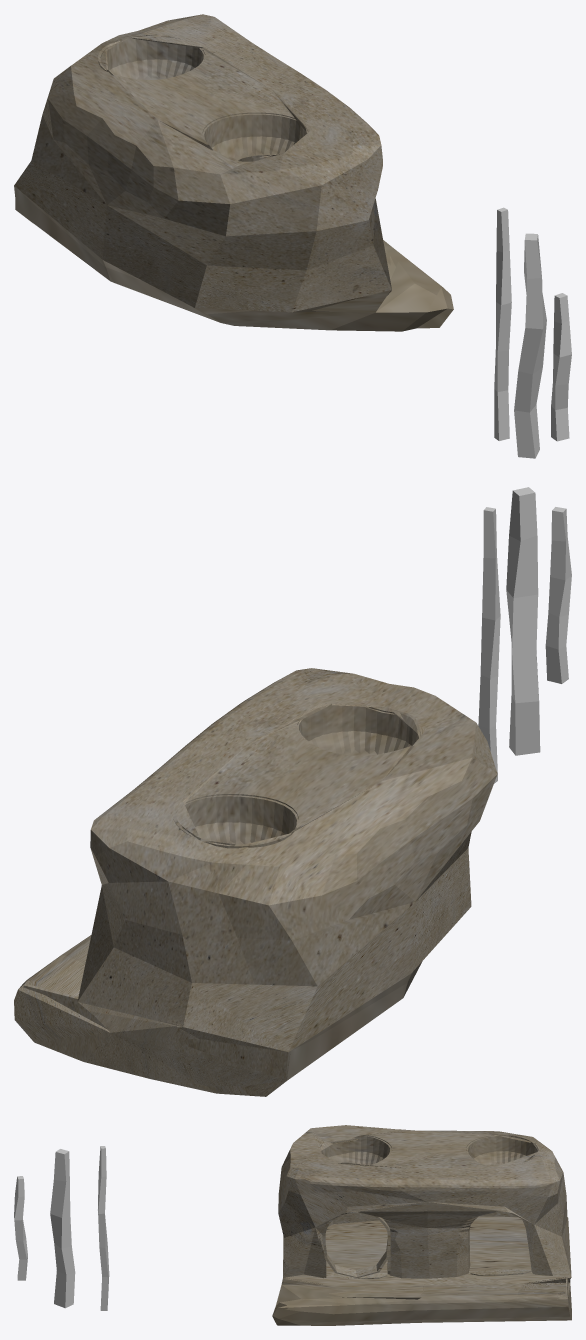
The model's file is bep.fbx.
The picture shows the model from 3 angles, top to bottom: view 1: azimuth 30°, elevation 25°; view 2: azimuth 150°, elevation 25°; view 3: azimuth 270°, elevation 25°; orthographic projection. The views are drawn at different scales.
Parts seen in each view (by area): view 1: bep, gotto, godai, gonho; view 2: bep, gotto, godai, gonho; view 3: bep, gotto, godai, gonho.
Boxes of the visible parts, <box> form: bep: <box>14,14,453,331</box>; gotto: <box>514,233,546,458</box>; godai: <box>494,207,511,440</box>; gonho: <box>551,293,571,441</box>; bep: <box>14,668,497,1096</box>; gotto: <box>506,487,540,755</box>; godai: <box>478,507,500,783</box>; gonho: <box>545,507,571,683</box>; bep: <box>272,1125,571,1325</box>; gotto: <box>50,1149,75,1308</box>; godai: <box>98,1146,109,1310</box>; gonho: <box>14,1176,27,1280</box>.
Size of the model in its own units: 353 by 322 by 1001.
